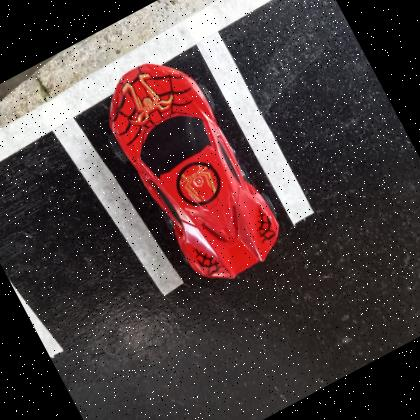Car: (108, 62, 280, 278)
